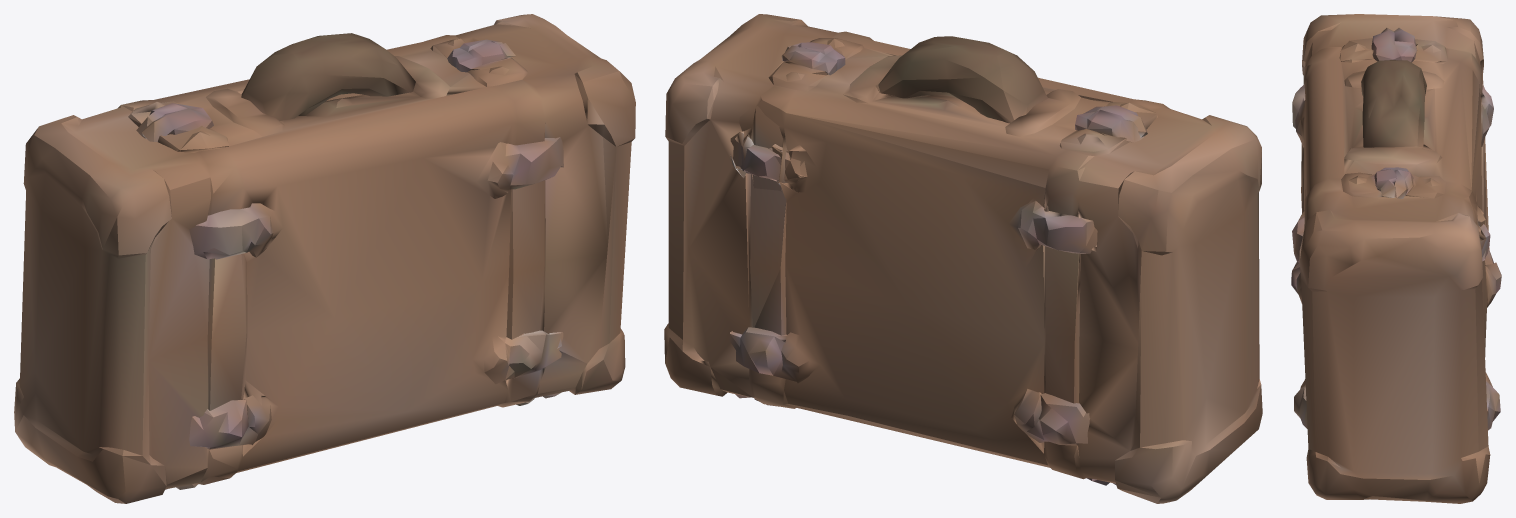
File: SuitCase01.fbx
The picture shows the model from 3 angles, left to right: view 1: azimuth 30°, elevation 25°; view 2: azimuth 150°, elevation 25°; view 3: azimuth 270°, elevation 25°; orthographic projection. The views are drawn at different scales.
Visible parts, largest first — view 1: Suitcase01; view 2: Suitcase01; view 3: Suitcase01.
Part boxes in pixels (x1,y1,x2,y2): Suitcase01: (14, 14, 635, 503); Suitcase01: (664, 14, 1262, 503); Suitcase01: (1291, 14, 1501, 503).
Size of the model in its own units: 78.15 by 53.96 by 30.73.
